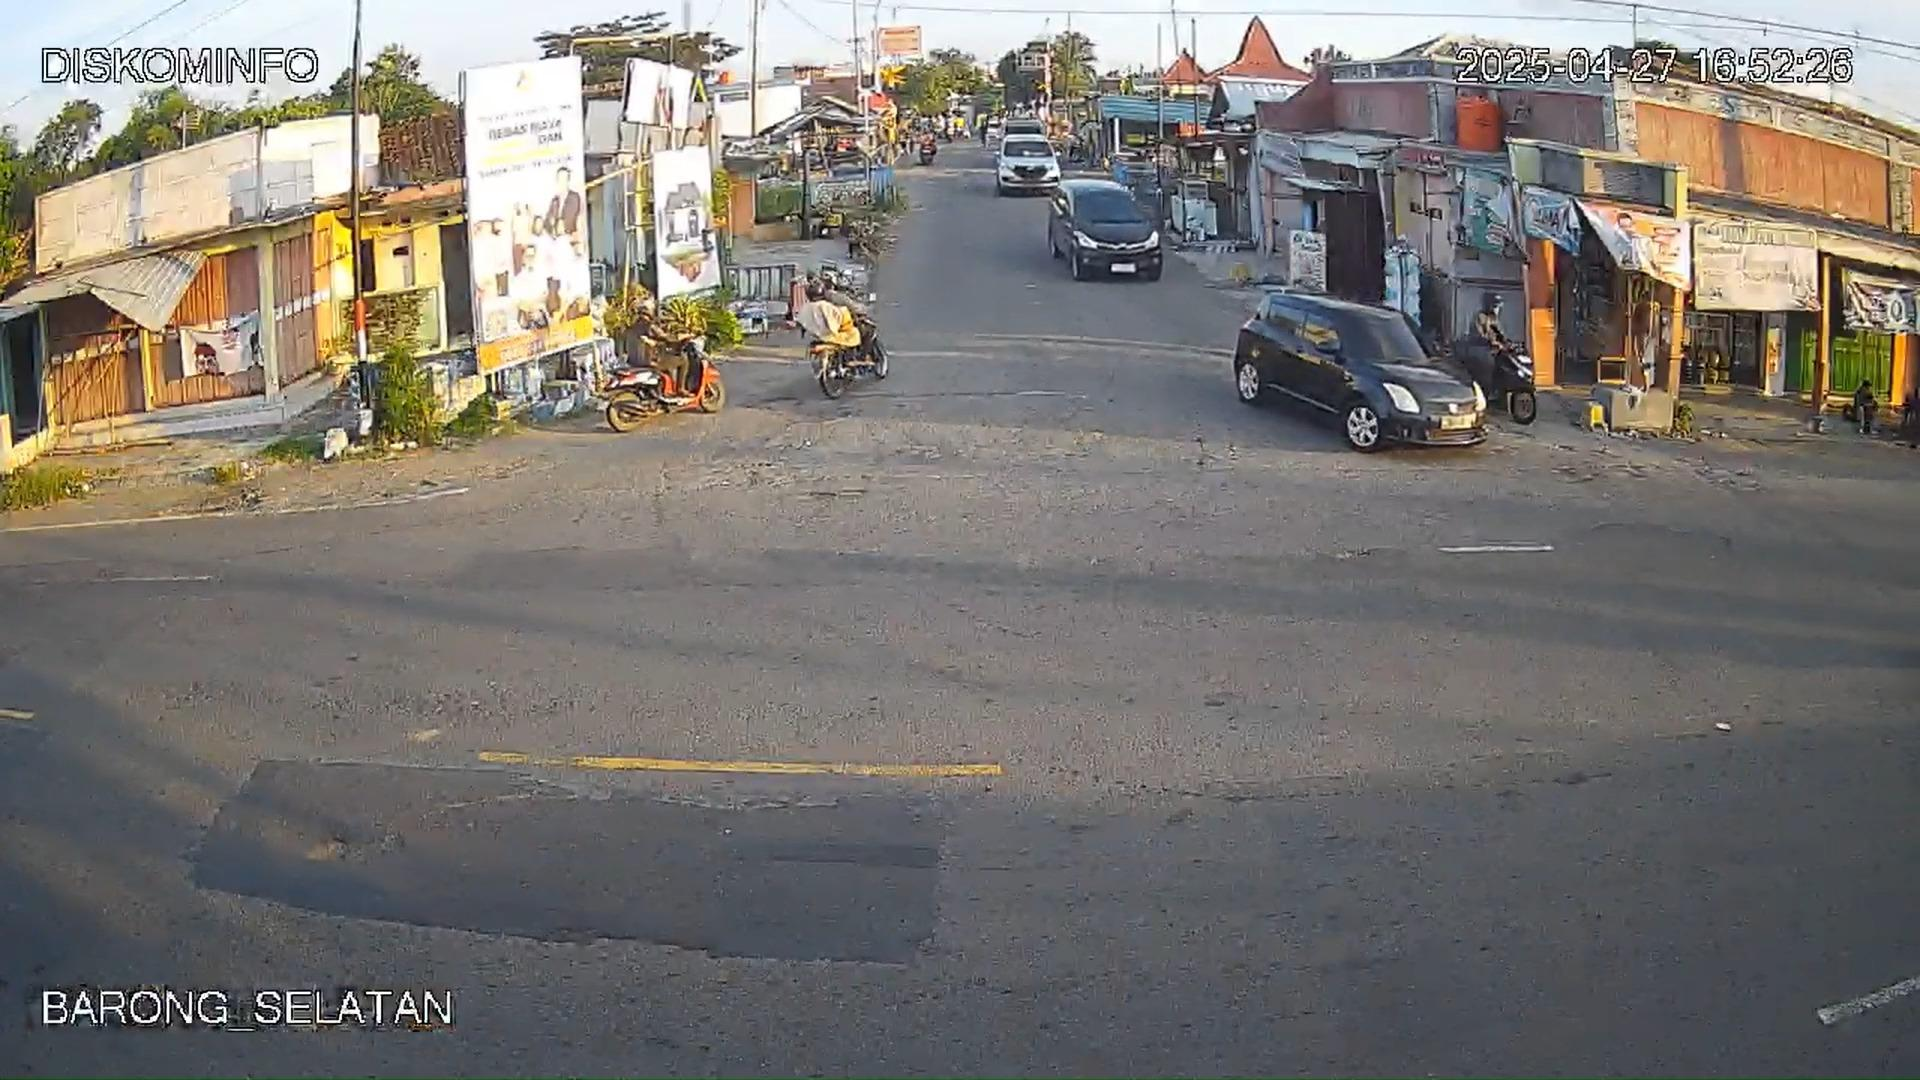Motor: (599, 322, 725, 435), (799, 290, 891, 398)
mobil: (1226, 286, 1476, 451), (1048, 181, 1160, 282)
